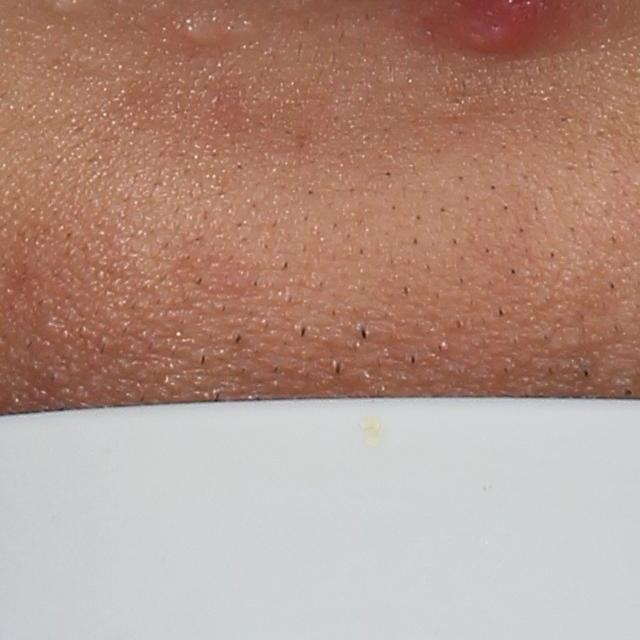hypertrophic_scar: (173, 12, 222, 54)
